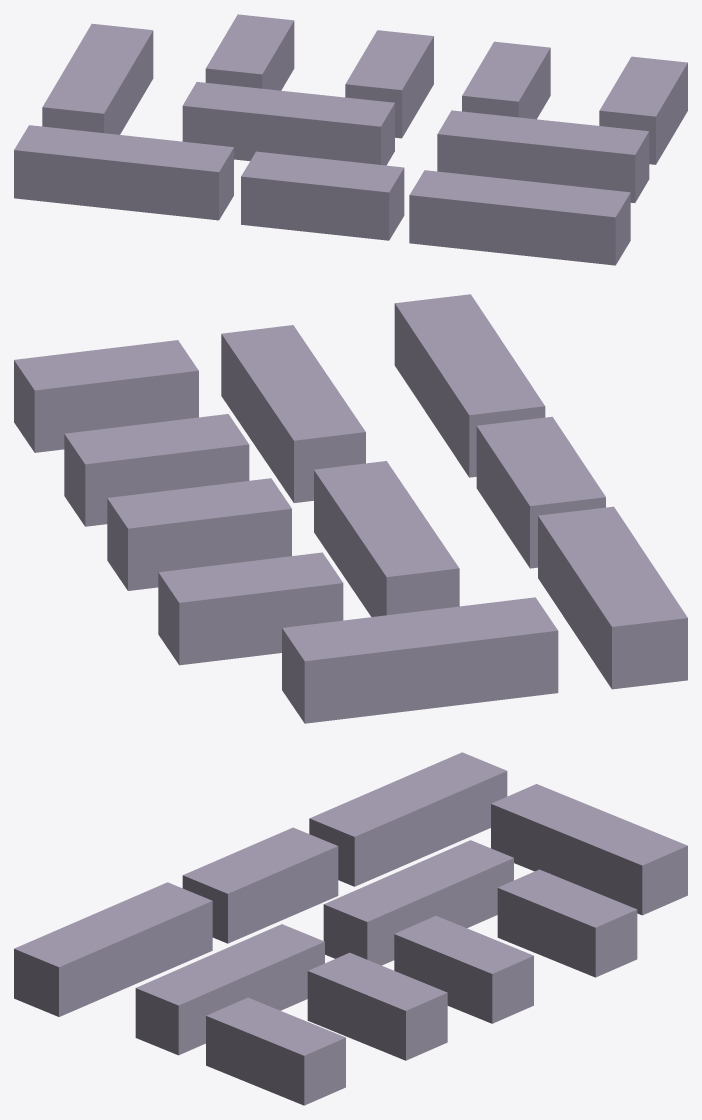
The model's file is aura-townhome-envelopes.glb.
3 views of the same model, one above another, from view 1: azimuth 30°, elevation 25°; view 2: azimuth 150°, elevation 25°; view 3: azimuth 270°, elevation 25° (orthographic). The views are drawn at different scales.
Parts seen in each view (by area): view 1: aura-block-15, aura-block-13, aura-june-footprint-2, aura-june-footprint-5, aura-block-14, aura-june-footprint-1, aura-june-footprint-7, aura-june-footprint-4, aura-june-footprint-6, aura-june-footprint-3; view 2: aura-june-footprint-1, aura-block-13, aura-june-footprint-5, aura-june-footprint-2, aura-june-footprint-3, aura-block-15, aura-june-footprint-4, aura-june-footprint-7, aura-june-footprint-6, aura-block-14; view 3: aura-block-15, aura-june-footprint-1, aura-block-13, aura-june-footprint-5, aura-june-footprint-2, aura-block-14, aura-june-footprint-6, aura-june-footprint-3, aura-june-footprint-7, aura-june-footprint-4.
Part boxes in pixels (x1,y1,x2,y2): aura-block-15: (409, 170, 630, 265); aura-block-13: (14, 125, 233, 220); aura-june-footprint-2: (182, 82, 394, 165); aura-june-footprint-5: (437, 110, 649, 202); aura-block-14: (241, 151, 404, 240); aura-june-footprint-1: (42, 23, 153, 134); aura-june-footprint-7: (599, 56, 687, 164); aura-june-footprint-4: (345, 30, 433, 138); aura-june-footprint-6: (462, 41, 550, 119); aura-june-footprint-3: (205, 14, 294, 90); aura-june-footprint-1: (282, 597, 558, 723); aura-block-13: (538, 506, 687, 689); aura-june-footprint-5: (221, 325, 365, 502); aura-june-footprint-2: (314, 461, 459, 616); aura-june-footprint-3: (158, 552, 343, 665); aura-block-15: (394, 294, 545, 477); aura-june-footprint-4: (107, 478, 291, 590); aura-june-footprint-7: (14, 340, 198, 452); aura-june-footprint-6: (64, 414, 249, 526); aura-block-14: (476, 416, 605, 568); aura-block-15: (14, 882, 212, 1016); aura-june-footprint-1: (491, 784, 687, 915); aura-block-13: (309, 752, 507, 886); aura-june-footprint-5: (135, 924, 324, 1055); aura-june-footprint-2: (323, 840, 513, 965); aura-block-14: (182, 827, 338, 943); aura-june-footprint-6: (307, 952, 447, 1060); aura-june-footprint-3: (497, 869, 637, 977); aura-june-footprint-7: (206, 997, 345, 1105); aura-june-footprint-4: (394, 916, 533, 1023).
Bounding box in the file's own units: 168 × 13.93 × 159.
